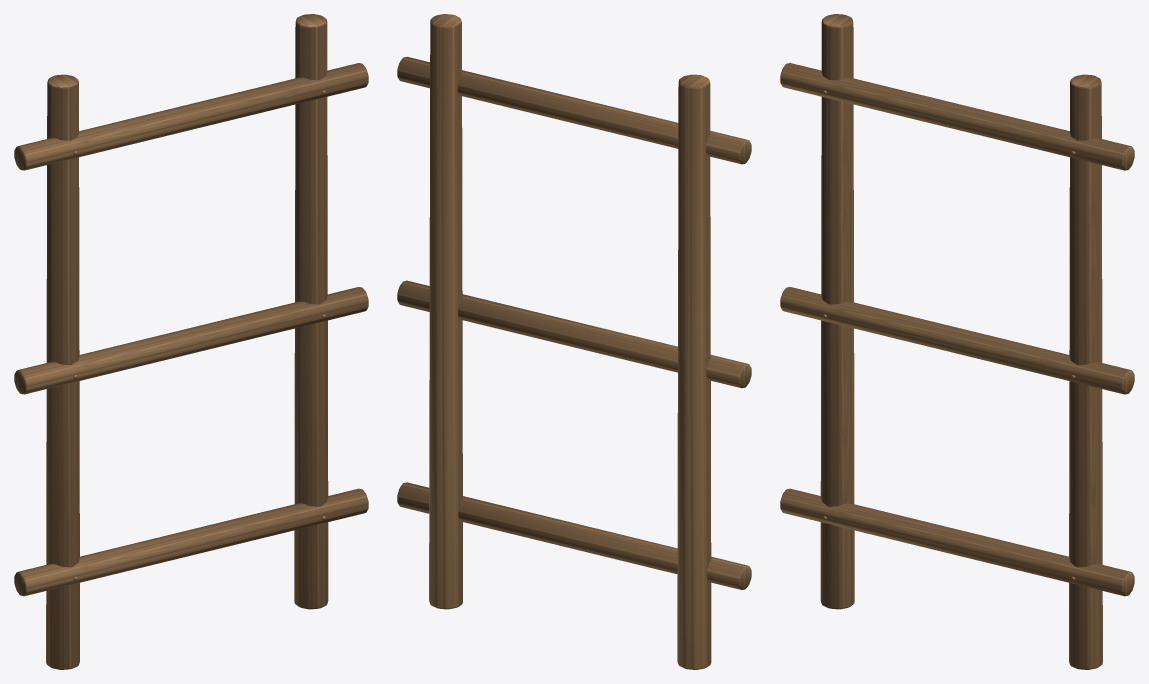
File: NP_G03_Trellis.fbx
The picture shows the model from 3 angles, left to right: view 1: azimuth 30°, elevation 25°; view 2: azimuth 150°, elevation 25°; view 3: azimuth 330°, elevation 25°; orthographic projection.
Parts seen in each view (by area): view 1: NP_G03_Trellis.001; view 2: NP_G03_Trellis.001; view 3: NP_G03_Trellis.001.
Boxes of the visible parts, bbox=[...] form: NP_G03_Trellis.001: bbox=[14, 14, 368, 669]; NP_G03_Trellis.001: bbox=[397, 14, 751, 669]; NP_G03_Trellis.001: bbox=[780, 14, 1134, 669].
Size of the model in its own units: 65 by 105 by 7.1.
